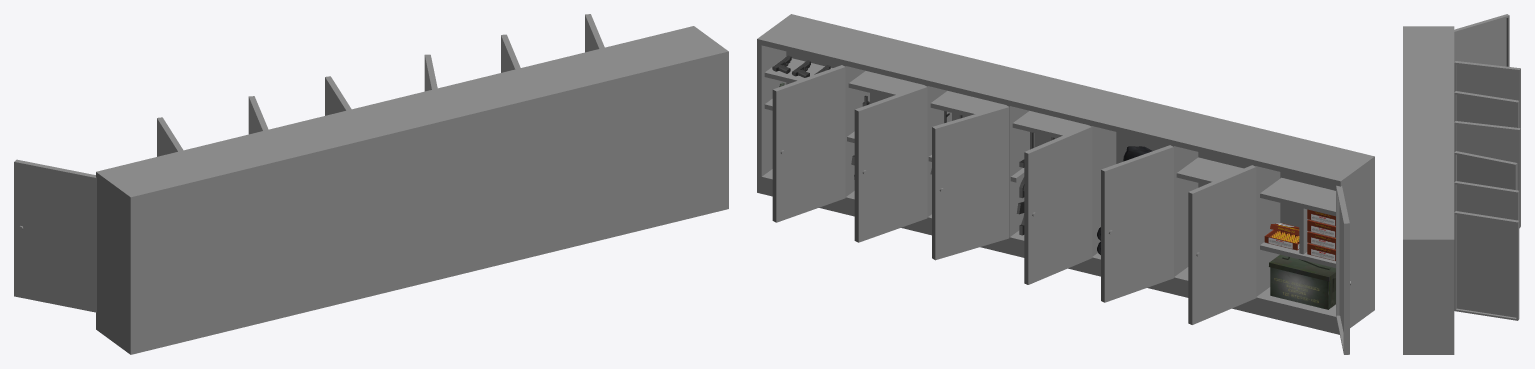
File: Gun Locker.FBX
The picture shows the model from 3 angles, left to right: view 1: azimuth 30°, elevation 25°; view 2: azimuth 150°, elevation 25°; view 3: azimuth 270°, elevation 25°; orthographic projection. The views are drawn at different scales.
Parts seen in each view (by area): view 1: Weapon Locker; view 2: Weapon Locker, Ammo Box 1, Ammo Box 3; view 3: Weapon Locker.
Boxes of the visible parts, x1,y1,x2,y2 form: Weapon Locker: [14, 14, 728, 354]; Weapon Locker: [757, 14, 1374, 354]; Ammo Box 1: [1269, 254, 1335, 309]; Ammo Box 3: [1264, 223, 1299, 250]; Weapon Locker: [1403, 14, 1520, 354].
Bounding box in the file's own units: 649 × 152 × 140.
